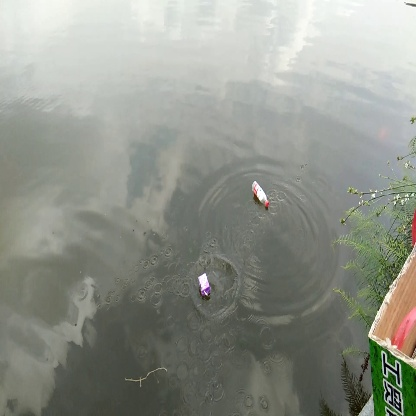bottle: (250, 180, 274, 211)
milk-box: (194, 272, 216, 300)
